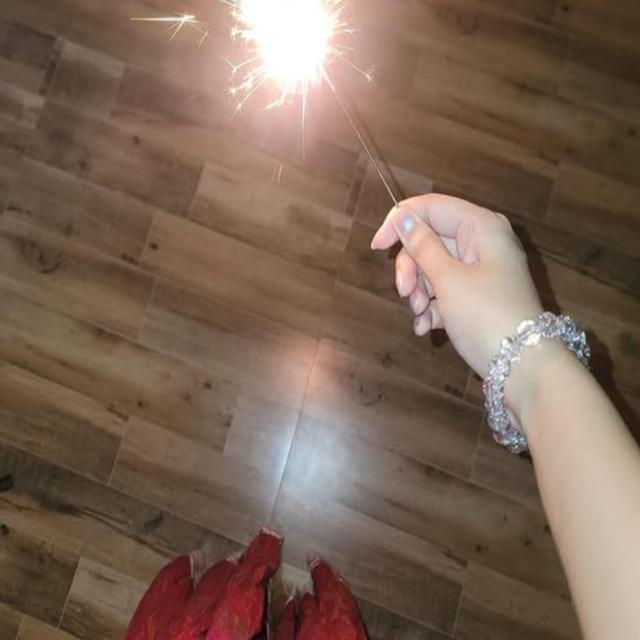fire: (241, 0, 338, 94)
